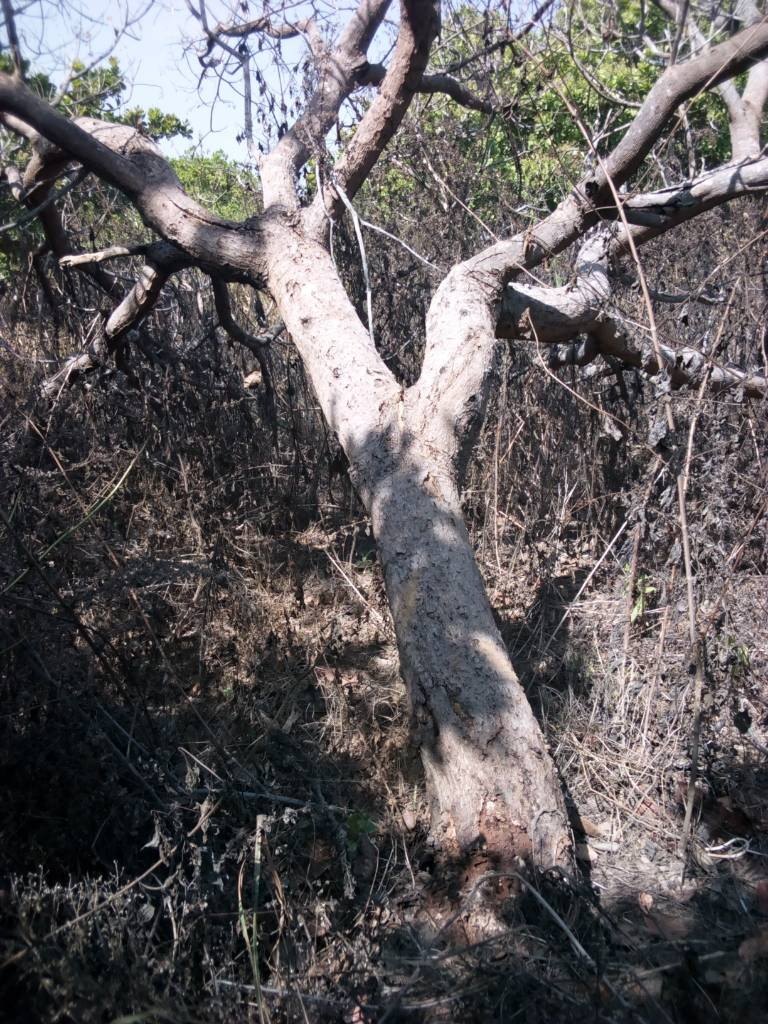Termites: (383, 397, 510, 870), (285, 236, 386, 414), (425, 289, 488, 405)
